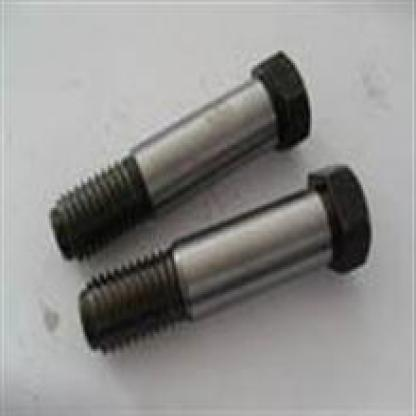FOD: (74, 161, 374, 358), (46, 48, 313, 265)
